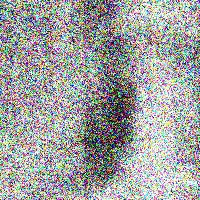patches: (84, 69, 136, 178)
